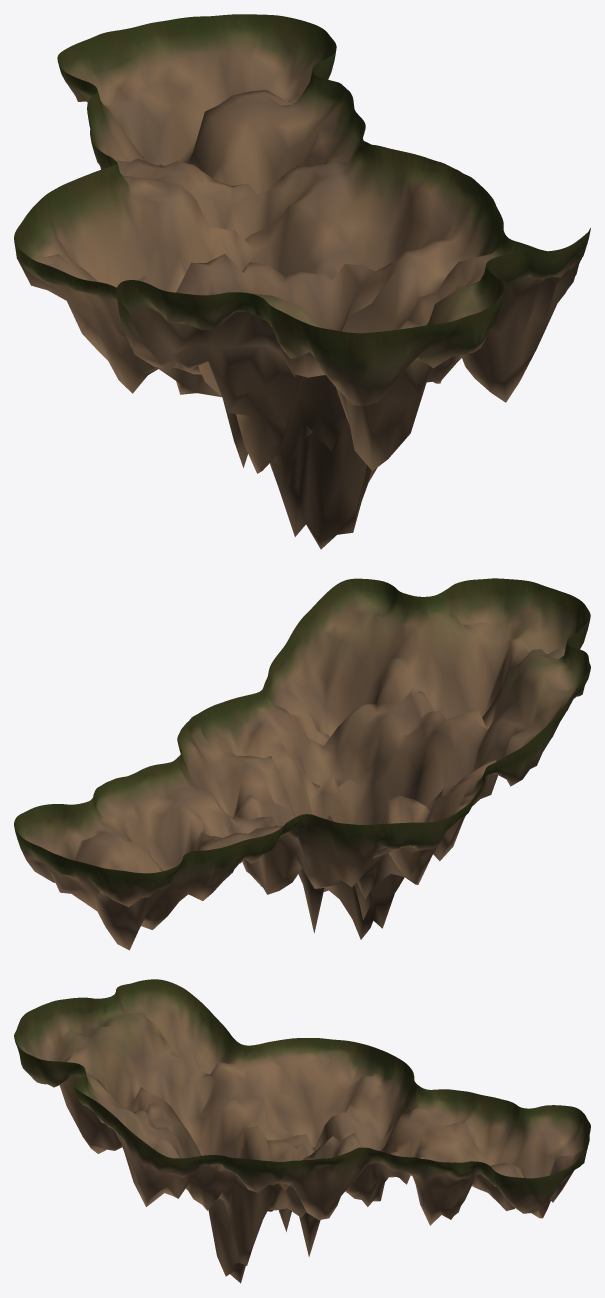
File: SM_H08_IslandRock.fbx
3 renders of one model, top to bottom at view 1: azimuth 30°, elevation 25°; view 2: azimuth 150°, elevation 25°; view 3: azimuth 270°, elevation 25°, orthographic. The views are drawn at different scales.
Visible parts, largest first — view 1: SM_H08_IslandRock; view 2: SM_H08_IslandRock; view 3: SM_H08_IslandRock.
Part boxes in pixels (bbox=[...]): SM_H08_IslandRock: bbox=[14, 14, 590, 549]; SM_H08_IslandRock: bbox=[14, 578, 590, 950]; SM_H08_IslandRock: bbox=[14, 979, 590, 1283].
Bounding box in the file's own units: 140 × 105 × 236.
